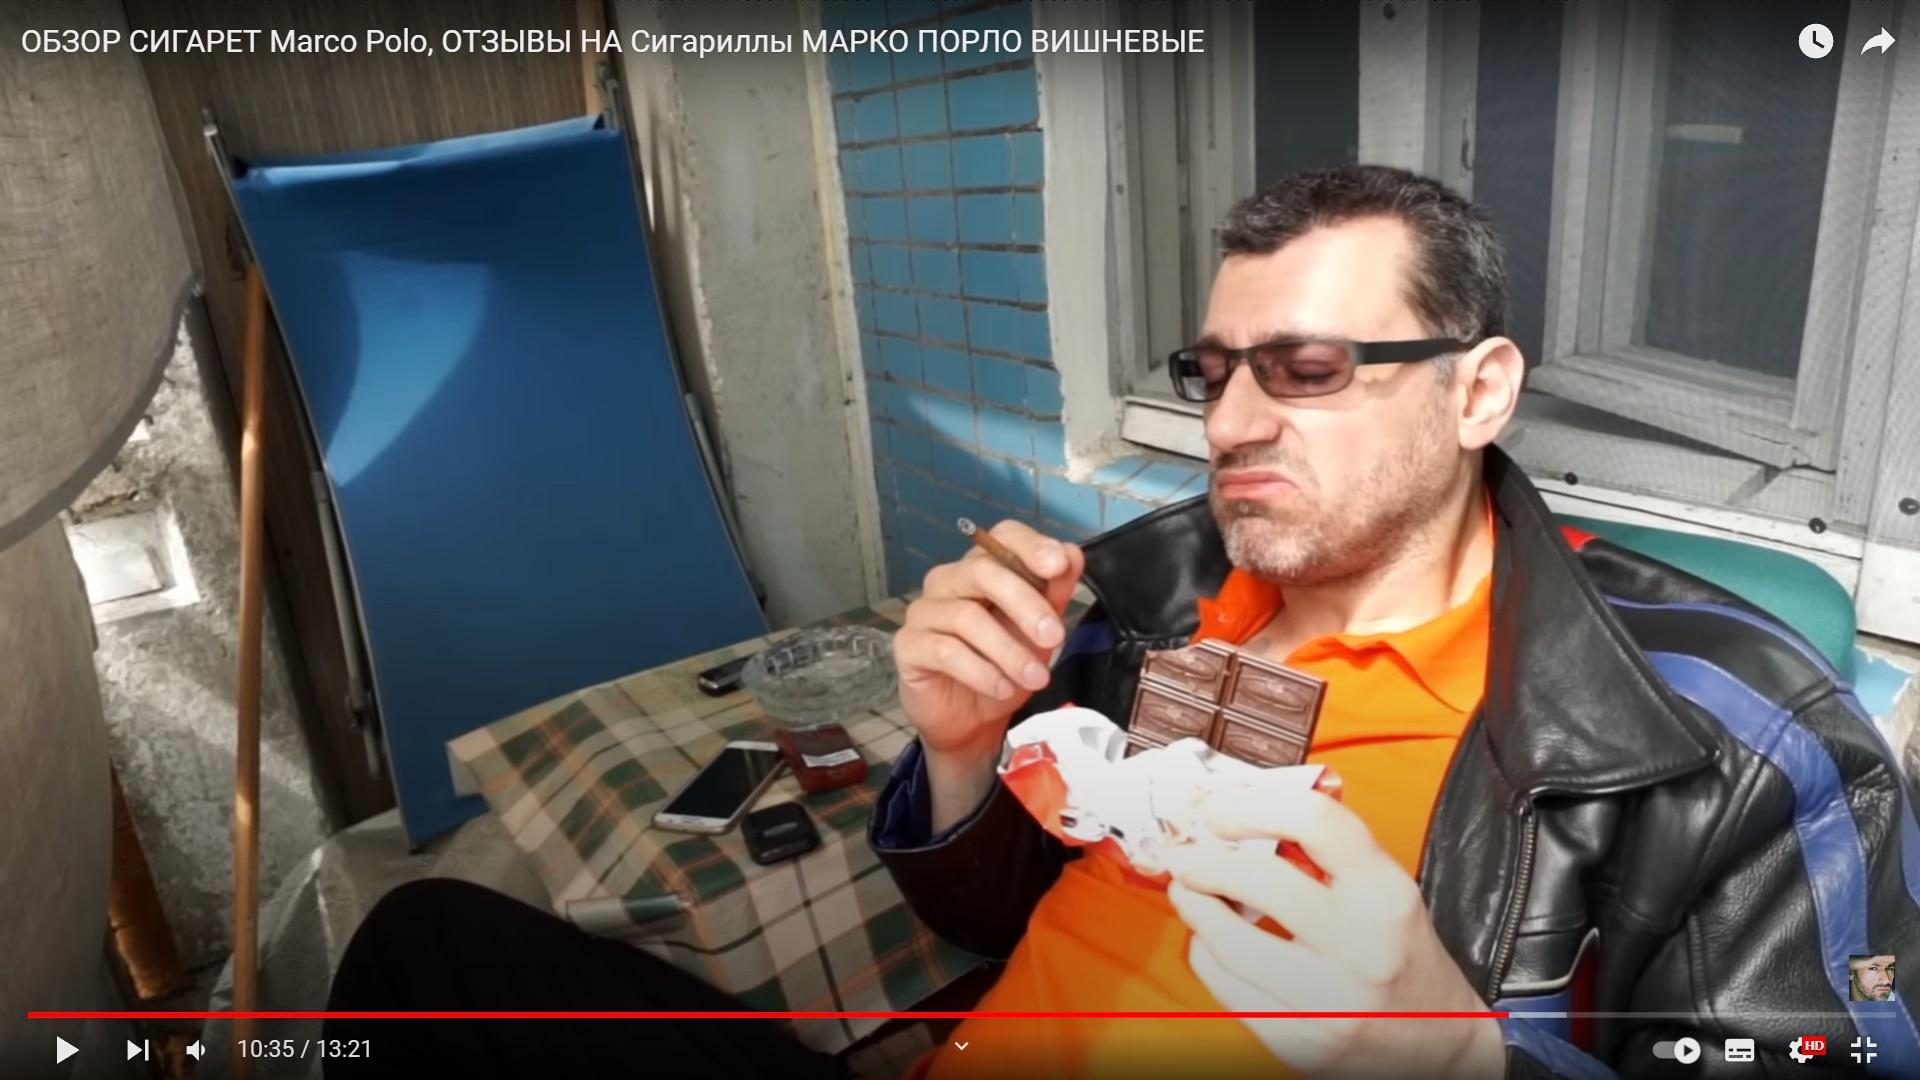cigarette: (957, 518, 1047, 592)
